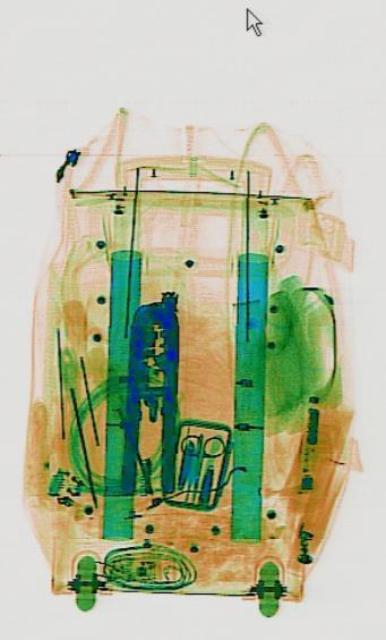Pliers: (118, 297, 181, 498)
Scissors: (170, 424, 224, 508)
